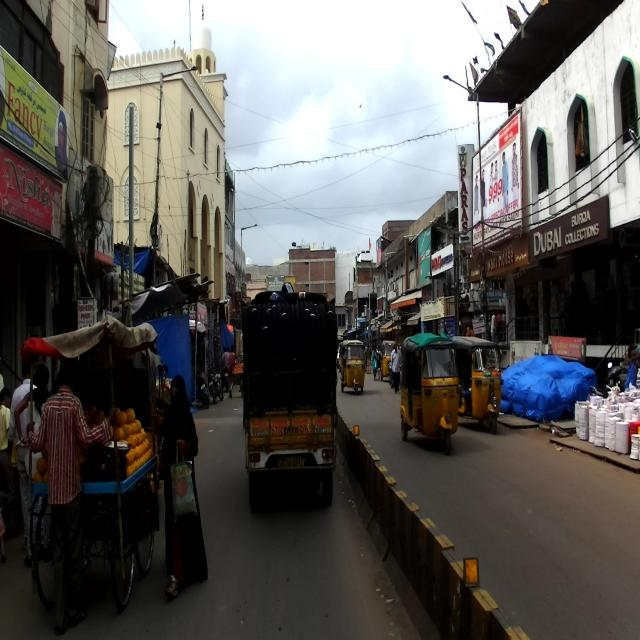autorickshaw: (400, 332, 461, 454), (449, 335, 504, 434)
truck: (240, 281, 336, 507)
